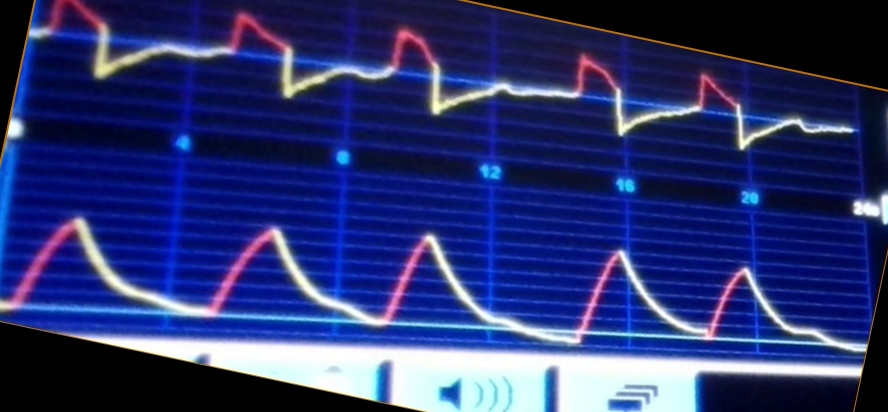Ineffective_effort Flow: (34, 3, 851, 154)
Ineffective_effort Volume: (2, 211, 860, 352)
